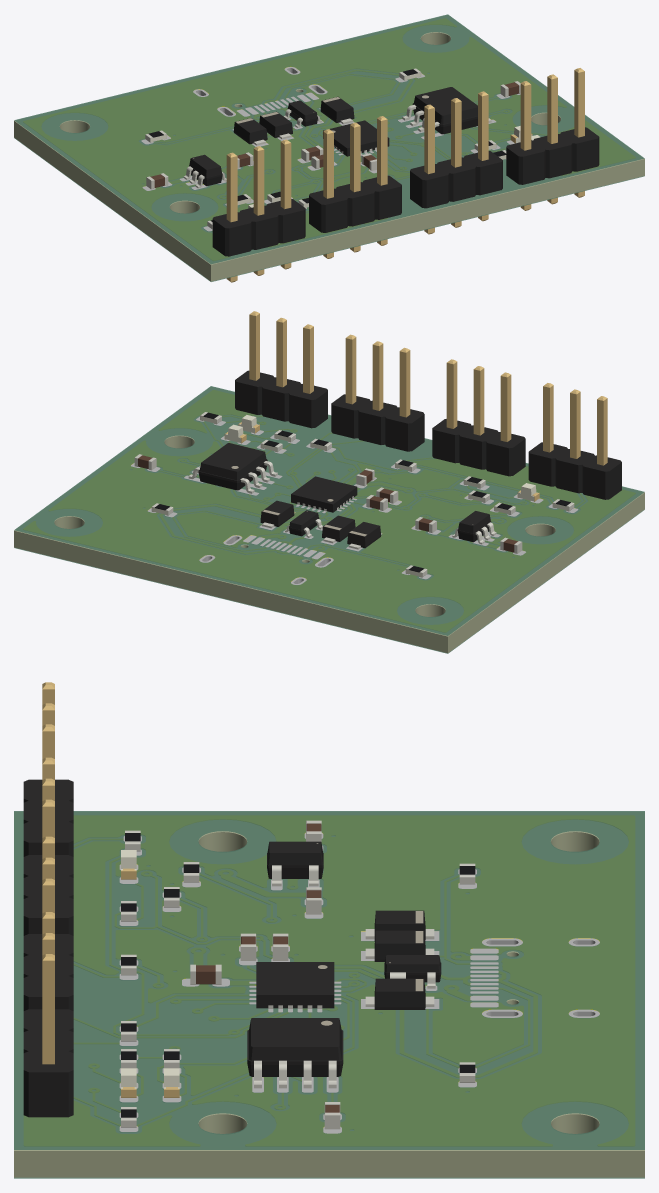
The model's file is usb-uart.glb.
3 views of the same model, one above another, from view 1: azimuth 30°, elevation 25°; view 2: azimuth 150°, elevation 25°; view 3: azimuth 270°, elevation 25° (orthographic). The views are drawn at different scales.
Parts seen in each view (by area): view 1: =>[0:1:1:31], =>[0:1:1:28], =>[0:1:1:23] (×4), =>[0:1:1:33], =>[0:1:1:29], =>[0:1:1:7] (×3), =>[0:1:1:25], =>[0:1:1:21], =>[0:1:1:17], =>[0:1:1:32], =>[0:1:1:5]; view 2: =>[0:1:1:31], =>[0:1:1:28], =>[0:1:1:33], =>[0:1:1:23] (×4), =>[0:1:1:29], =>[0:1:1:25], =>[0:1:1:7] (×3), =>[0:1:1:21], =>[0:1:1:17], =>[0:1:1:32], =>[0:1:1:5]; view 3: =>[0:1:1:31], =>[0:1:1:28], =>[0:1:1:33], =>[0:1:1:23] (×4), =>[0:1:1:29], =>[0:1:1:25], =>[0:1:1:7] (×3), =>[0:1:1:21], =>[0:1:1:17], =>[0:1:1:5], =>[0:1:1:32].
Boxes of the visible parts, x1,y1,x2,y2 form: =>[0:1:1:31]: (14, 14, 644, 264); =>[0:1:1:28]: (23, 19, 635, 260); =>[0:1:1:23] (×4): (212, 68, 599, 282); =>[0:1:1:33]: (14, 15, 644, 281); =>[0:1:1:29]: (141, 67, 520, 231); =>[0:1:1:7] (×3): (233, 96, 354, 145); =>[0:1:1:25]: (402, 87, 491, 134); =>[0:1:1:21]: (323, 120, 389, 156); =>[0:1:1:17]: (183, 154, 226, 188); =>[0:1:1:32]: (14, 138, 644, 281); =>[0:1:1:5]: (283, 100, 321, 127); =>[0:1:1:31]: (14, 386, 644, 635); =>[0:1:1:28]: (23, 390, 635, 632); =>[0:1:1:33]: (14, 387, 644, 653); =>[0:1:1:23] (×4): (235, 311, 621, 499); =>[0:1:1:29]: (131, 417, 578, 584); =>[0:1:1:25]: (188, 443, 277, 493); =>[0:1:1:7] (×3): (260, 500, 381, 549); =>[0:1:1:21]: (291, 476, 357, 512); =>[0:1:1:17]: (452, 511, 496, 544); =>[0:1:1:32]: (14, 509, 644, 653); =>[0:1:1:5]: (285, 510, 322, 537); =>[0:1:1:31]: (14, 811, 644, 1149); =>[0:1:1:28]: (24, 816, 634, 1145); =>[0:1:1:33]: (14, 812, 644, 1177); =>[0:1:1:23] (×4): (23, 682, 73, 1117); =>[0:1:1:29]: (119, 833, 599, 1133); =>[0:1:1:25]: (247, 1018, 343, 1088); =>[0:1:1:7] (×3): (365, 910, 434, 1009); =>[0:1:1:21]: (256, 962, 334, 1008); =>[0:1:1:17]: (267, 841, 323, 886); =>[0:1:1:5]: (384, 955, 441, 988); =>[0:1:1:32]: (14, 1177, 644, 1178).
Size of the model in its own units: 0.041 by 0.0115 by 0.0322.
